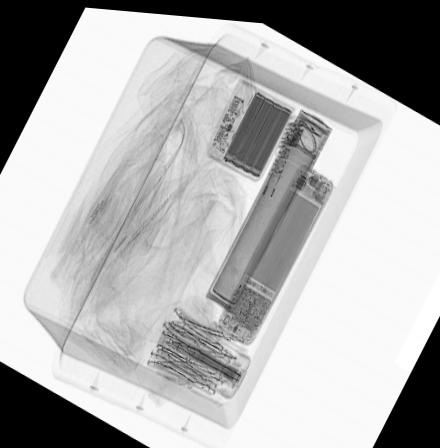Powerbank: (200, 70, 297, 183)
